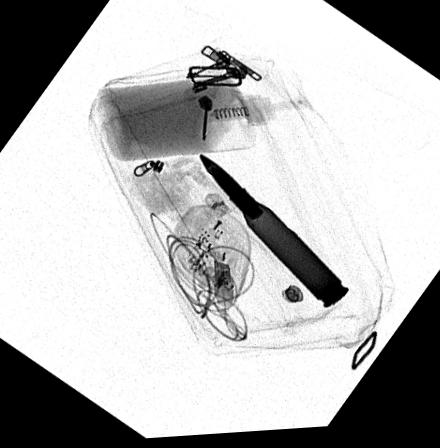Bullet: (194, 151, 350, 313)
